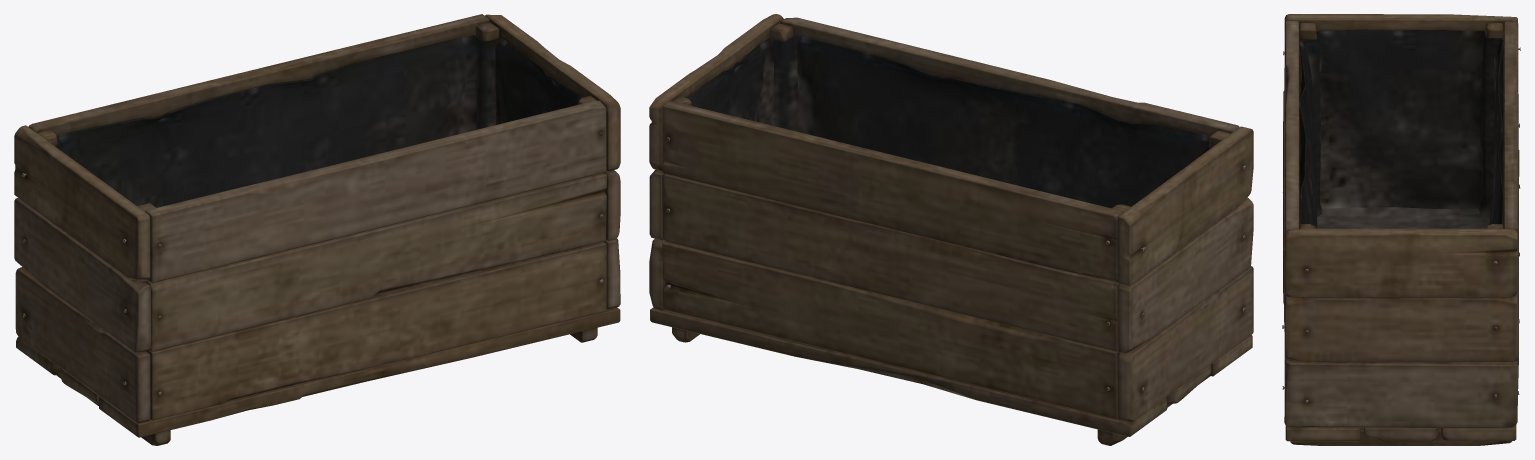
3 views of the same model, side by side, from view 1: azimuth 30°, elevation 25°; view 2: azimuth 150°, elevation 25°; view 3: azimuth 270°, elevation 25° (orthographic). The views are drawn at different scales.
Parts seen in each view (by area): view 1: planter_box_01; view 2: planter_box_01; view 3: planter_box_01.
Part boxes in pixels (left/top/right/bottom): planter_box_01: left=14, top=14, right=620, bottom=445; planter_box_01: left=649, top=14, right=1253, bottom=445; planter_box_01: left=1282, top=14, right=1520, bottom=445.
Size of the model in its own units: 0.9126 by 0.425 by 0.4137.
Materials: 1 (1 with a texture image).
